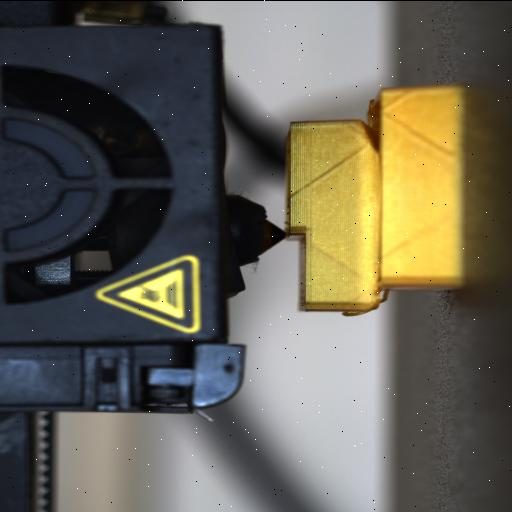layer_shift: (368, 86, 388, 312)
